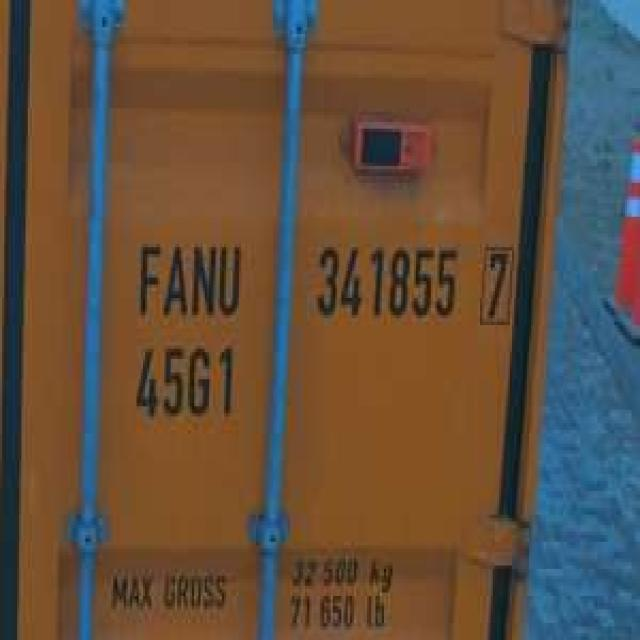dv: (476, 234, 518, 335)
owner: (128, 230, 245, 322)
serial: (309, 234, 459, 325)
size: (128, 332, 243, 427)
